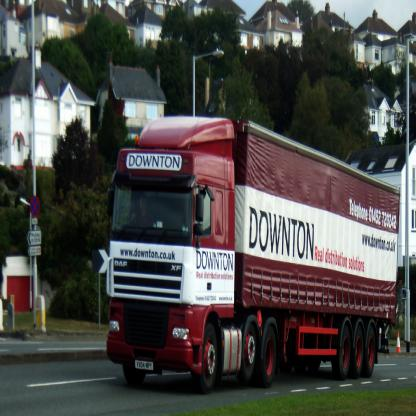Truck: (95, 98, 410, 392)
